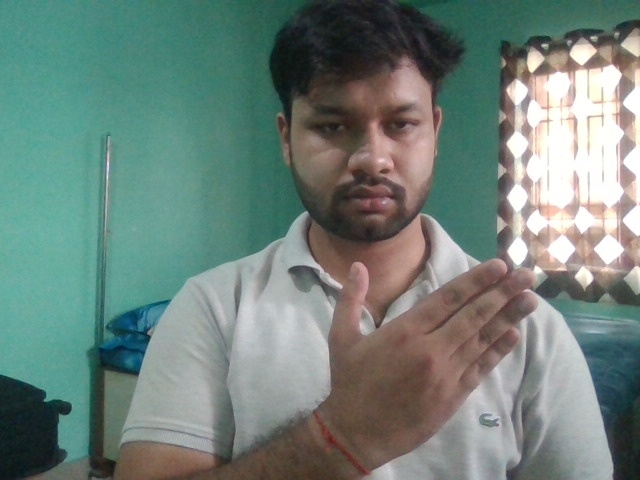Please: (315, 253, 543, 467)
